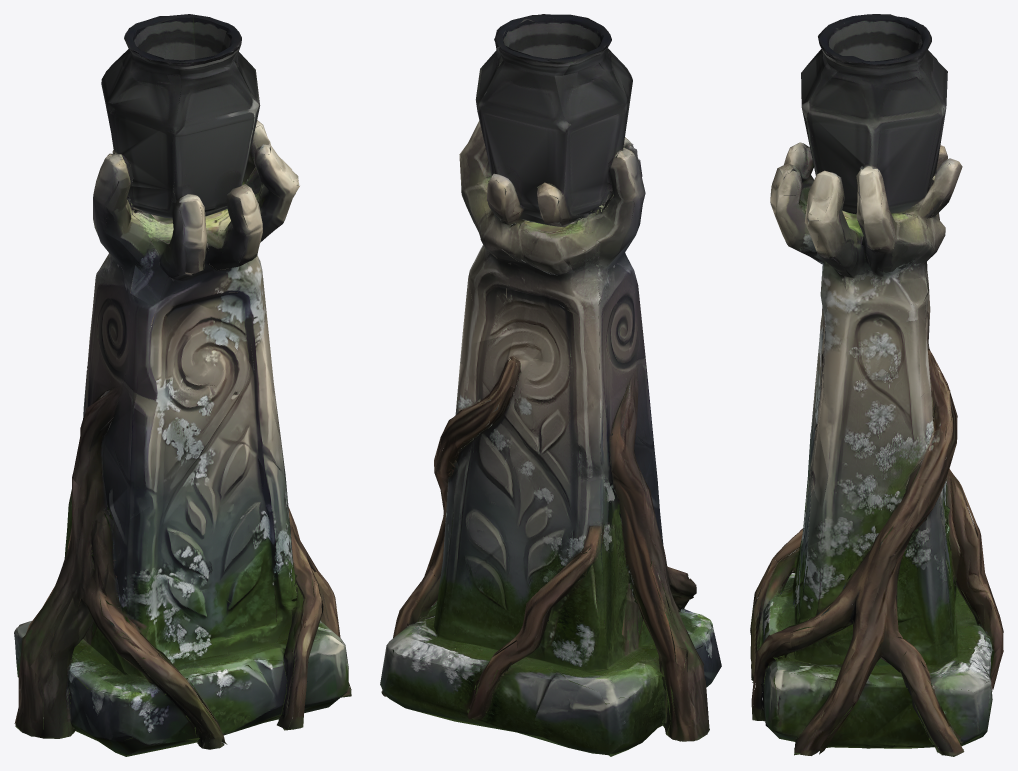
File: mesh_memory_reliquary_a.glb
3 views of the same model, side by side, from view 1: azimuth 30°, elevation 25°; view 2: azimuth 150°, elevation 25°; view 3: azimuth 270°, elevation 25° (orthographic).
Visible parts, largest first — view 1: mesh_memory_reliquary_a__Mesh_0; view 2: mesh_memory_reliquary_a__Mesh_0; view 3: mesh_memory_reliquary_a__Mesh_0.
Part boxes in pixels (x1,y1,x2,y2): mesh_memory_reliquary_a__Mesh_0: (14, 14, 351, 756); mesh_memory_reliquary_a__Mesh_0: (380, 14, 721, 756); mesh_memory_reliquary_a__Mesh_0: (750, 14, 1003, 756).
Size of the model in its own units: 2.53 by 5.39 by 1.89.
Materials: 1 (1 with a texture image).
